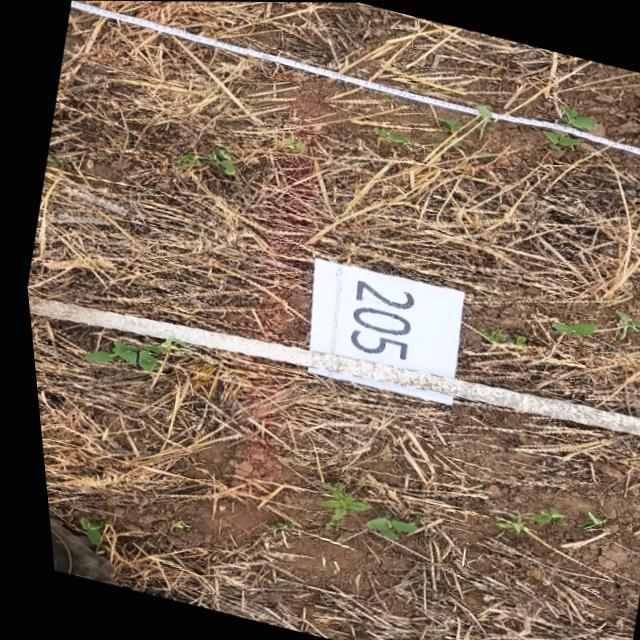caruru_weed: (306, 484, 359, 525)
soy_plant: (77, 340, 158, 372), (485, 505, 554, 534), (169, 146, 231, 175), (355, 514, 412, 539), (554, 103, 593, 129), (543, 319, 592, 338), (606, 310, 638, 338), (474, 328, 519, 347), (369, 124, 408, 142), (540, 129, 576, 148), (68, 516, 89, 543), (274, 136, 301, 153), (432, 118, 458, 131), (474, 104, 488, 121), (635, 120, 640, 134)
